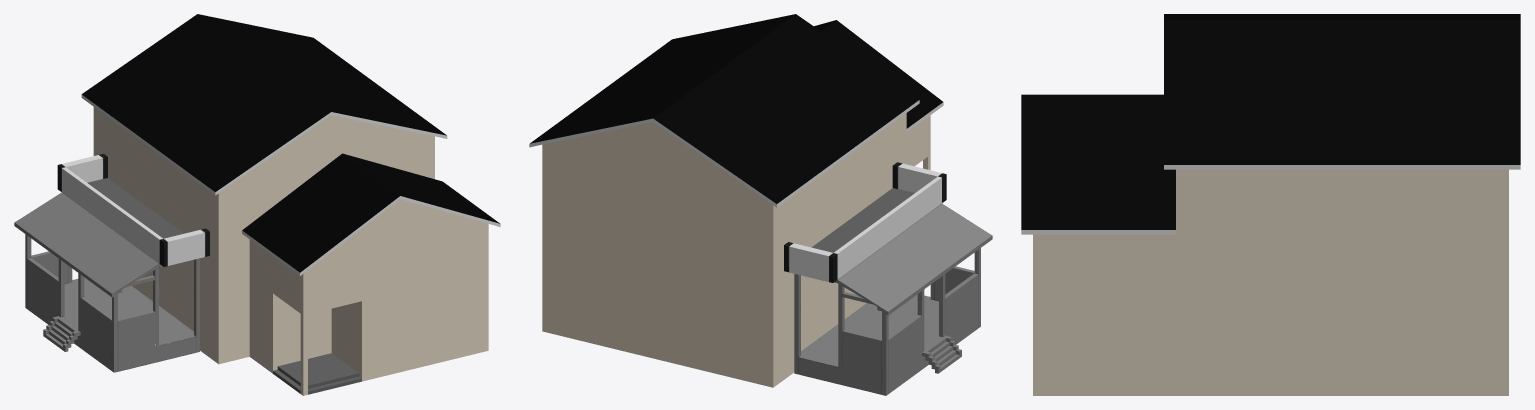
The model's file is Home1.fbx.
The picture shows the model from 3 angles, left to right: view 1: azimuth 30°, elevation 25°; view 2: azimuth 150°, elevation 25°; view 3: azimuth 270°, elevation 25°; orthographic projection. The views are drawn at different scales.
Visible parts, largest first — view 1: Cube.058, Cube.057; view 2: Cube.058, Cube.057; view 3: Cube.058.
Part boxes in pixels (left/top/right/bottom): Cube.058: left=81, top=14, right=500, bottom=395; Cube.057: left=14, top=154, right=209, bottom=372; Cube.058: left=529, top=14, right=943, bottom=387; Cube.057: left=784, top=162, right=992, bottom=395; Cube.058: left=1021, top=14, right=1520, bottom=395.
Size of the model in its own units: 14.8 by 9.92 by 14.7.
